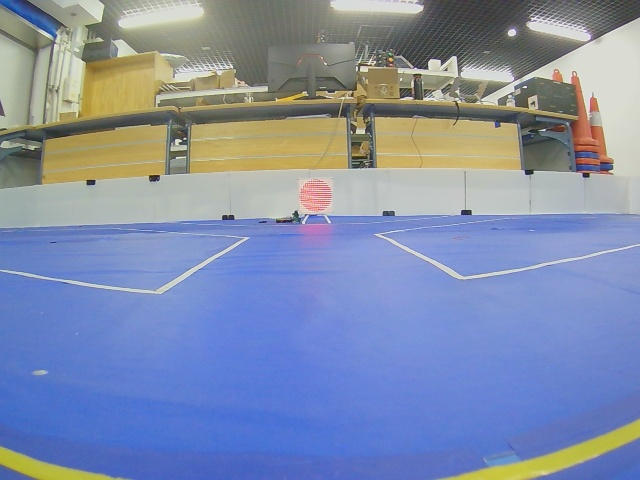red: (299, 179, 333, 214)
